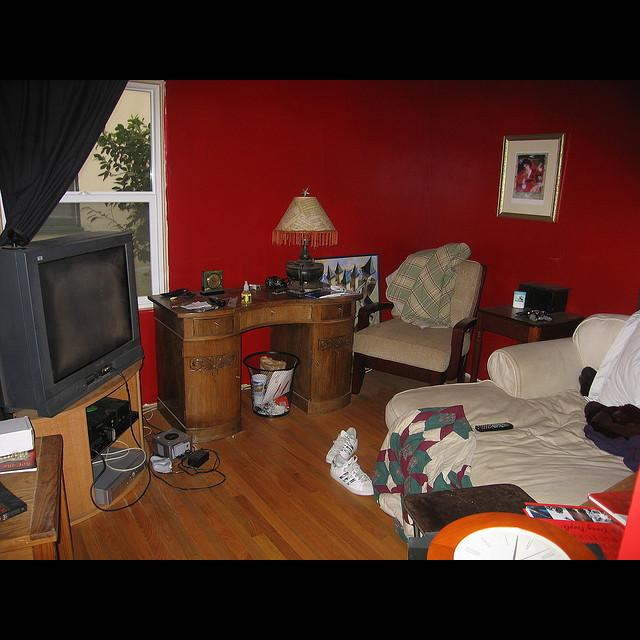Flat-Panel-TV: (0, 232, 146, 420)
TV-Remote-Control: (476, 421, 515, 432), (210, 294, 227, 306), (286, 289, 306, 298)
